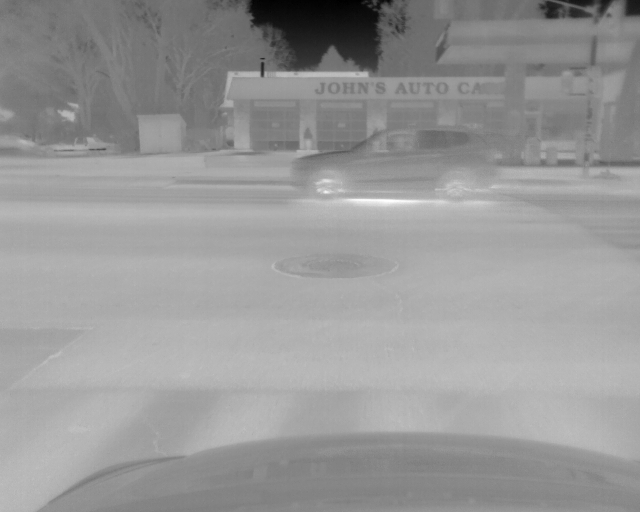car: (292, 122, 499, 203)
